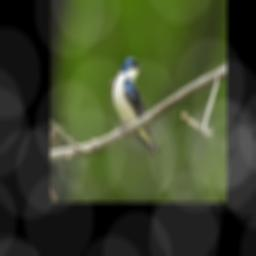Swallow: (109, 57, 161, 157)
